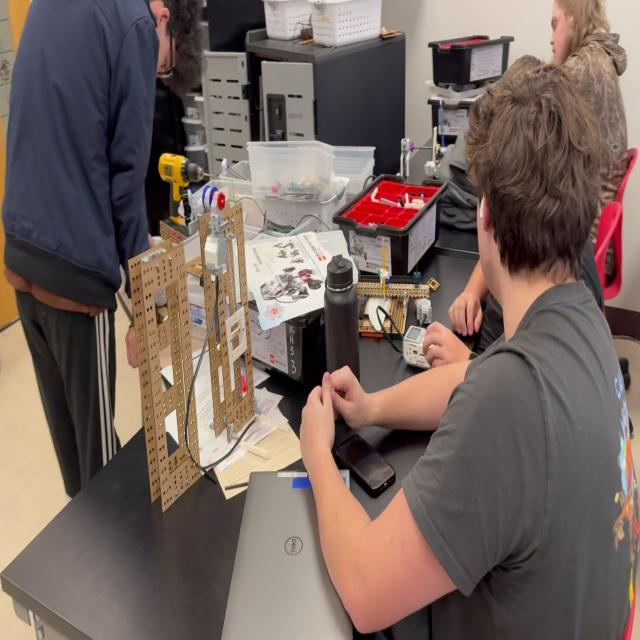pen: (334, 433, 396, 499)
